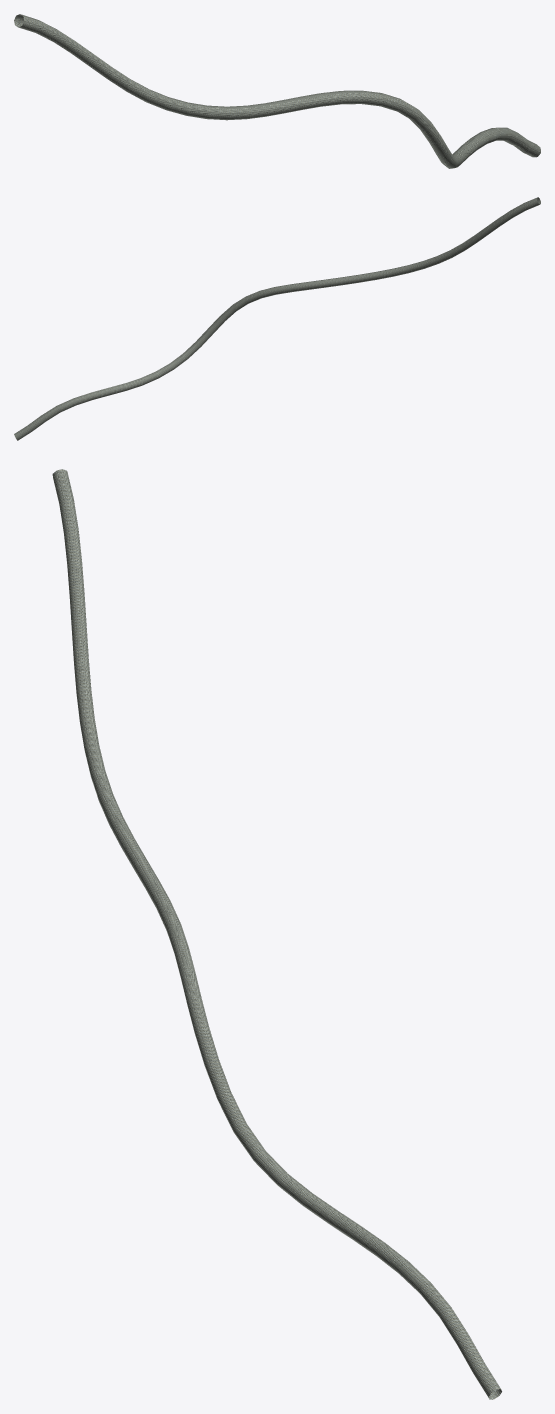
File: microtubule56.fbx
3 renders of one model, top to bottom at view 1: azimuth 30°, elevation 25°; view 2: azimuth 150°, elevation 25°; view 3: azimuth 270°, elevation 25°, orthographic. The views are drawn at different scales.
Parts seen in each view (by area): view 1: microtubule56; view 2: microtubule56; view 3: microtubule56.
Boxes of the visible parts, x1,y1,x2,y2 form: microtubule56: (14, 14, 540, 168); microtubule56: (14, 197, 540, 440); microtubule56: (52, 469, 501, 1399).
Bounding box in the file's own units: 8994 × 5428 × 4183.
Materials: 1 (1 with a texture image).
